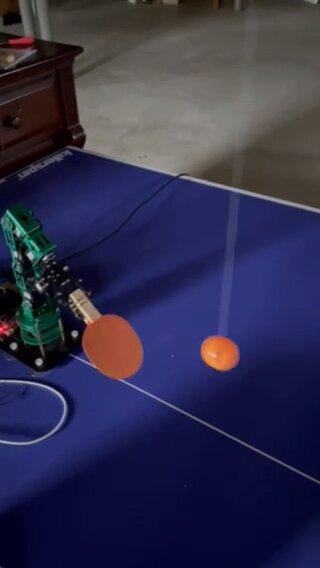oball: (201, 337, 242, 372)
